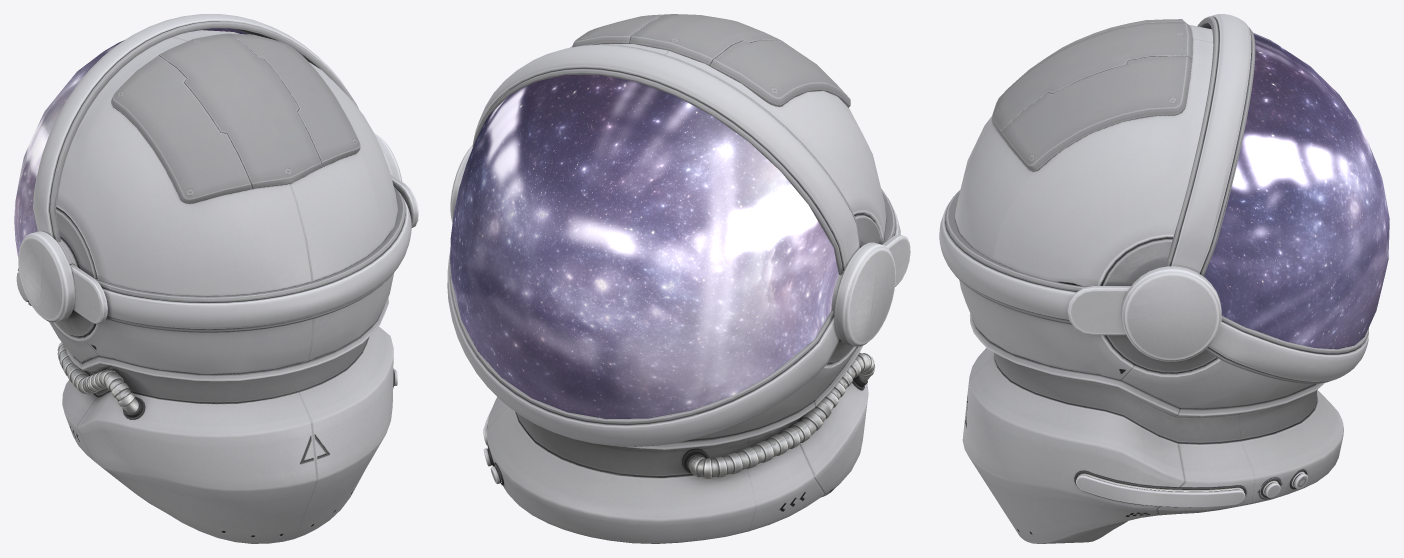
Rendered from astro.glb.
The picture shows the model from 3 angles, left to right: view 1: azimuth 30°, elevation 25°; view 2: azimuth 150°, elevation 25°; view 3: azimuth 270°, elevation 25°; orthographic projection. The views are drawn at different scales.
Visible parts, largest first — view 1: Material4-material, Material1-material (×2), Material0-material, Material3-material; view 2: Material0-material, Material4-material, Material1-material (×2); view 3: Material4-material, Material1-material (×2), Material0-material, Material3-material.
Boxes of the visible parts, x1,y1,x2,y2 form: Material4-material: (18,30,418,543); Material1-material (×2): (16,14,411,419); Material0-material: (14,28,249,263); Material3-material: (309,62,397,239); Material0-material: (450,75,838,419); Material4-material: (450,43,910,543); Material1-material (×2): (447,14,900,485); Material4-material: (955,25,1343,543); Material1-material (×2): (939,14,1368,507); Material0-material: (1203,33,1389,349); Material3-material: (992,113,1192,286).
Size of what is drawn, in the model's own units: 0.2449 by 0.3055 by 0.2544.
5 materials, 4 textured.
